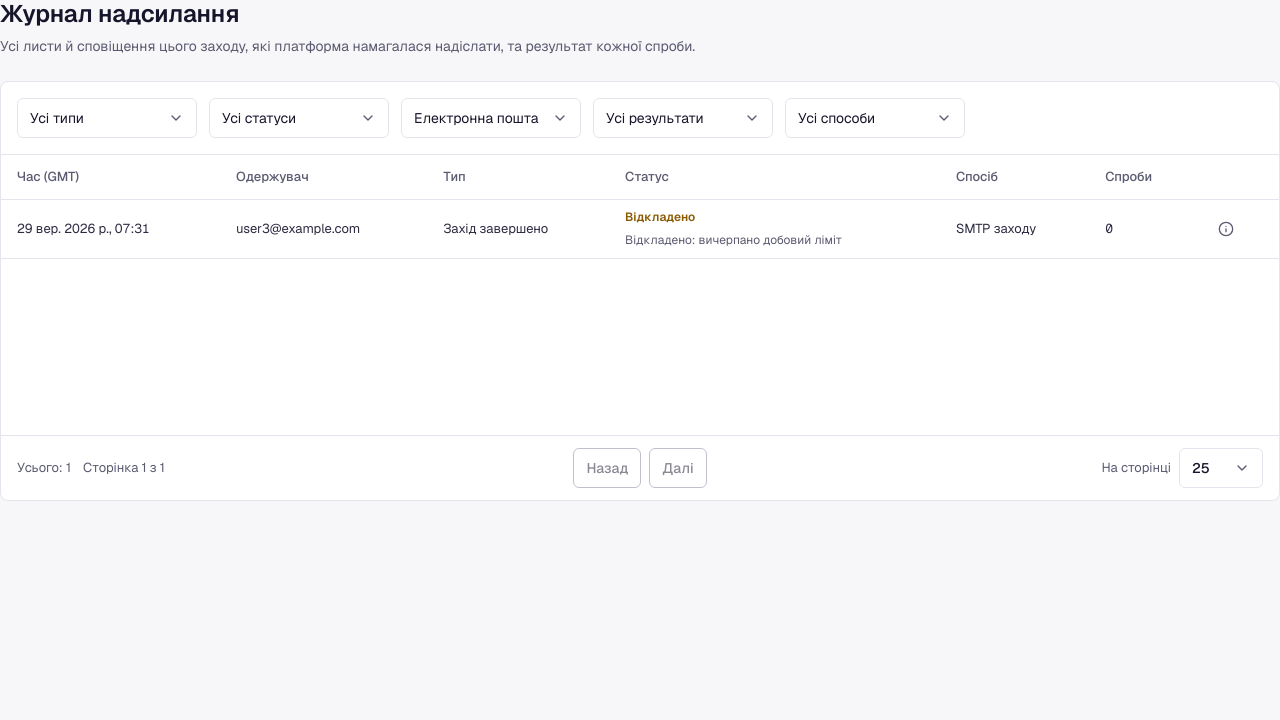
Test: Журнал надсилання › shows a deferred send as deferred with its reason, not as an error
Check: the text "user3@example.com" is shown, box [220,200,428,259]
Check: the text "Відкладено" is shown, box [625,209,695,225]
Click the button named "Деталі надсилання: Захід завершено".
click(1226, 229)  # box [1210,213,1242,245]
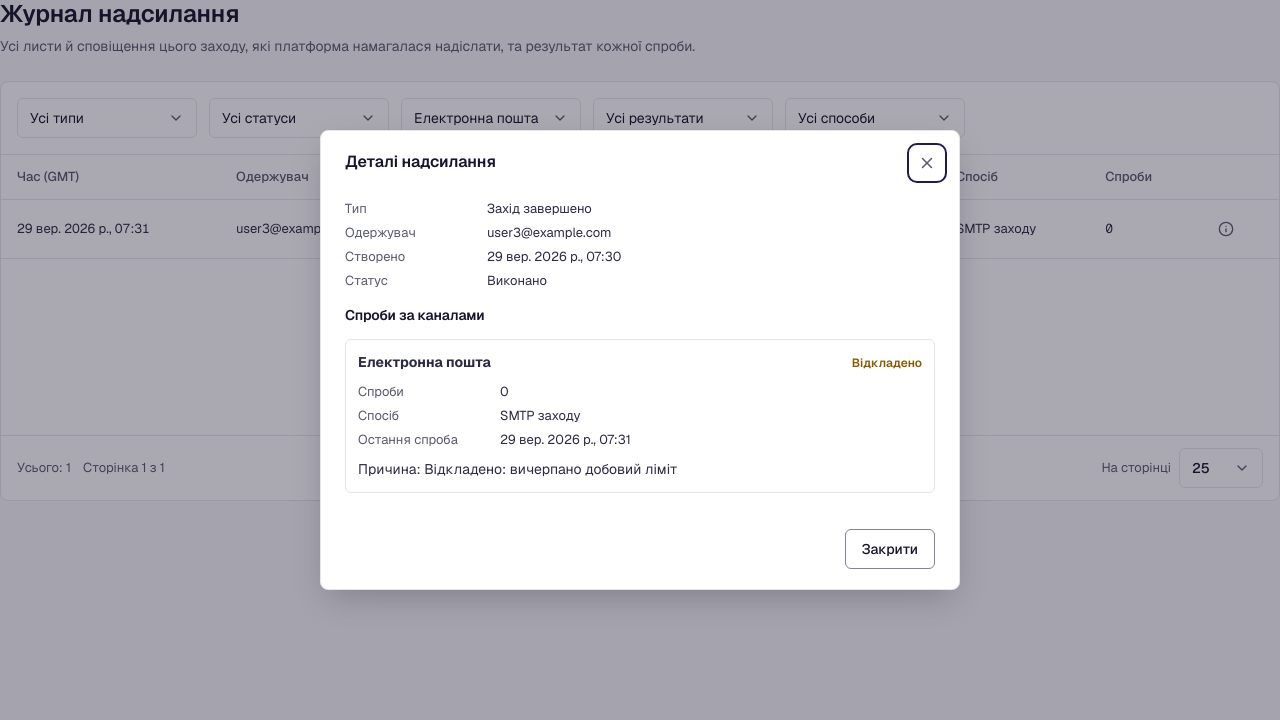
Check: the text "Причина: Відкладено: вичерпано добовий ліміт" is shown, box [358,460,677,478]
